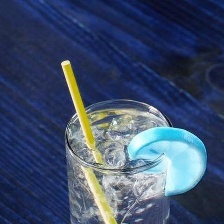drinking_straw: (56, 55, 121, 223)
glass: (60, 94, 178, 223)
